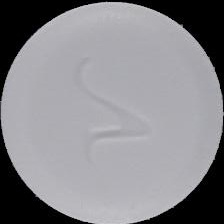48433-308: (0, 0, 224, 224)
